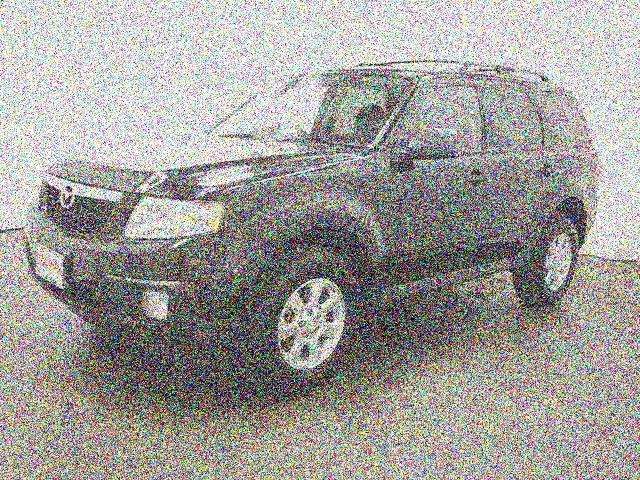car: (22, 37, 609, 413)
